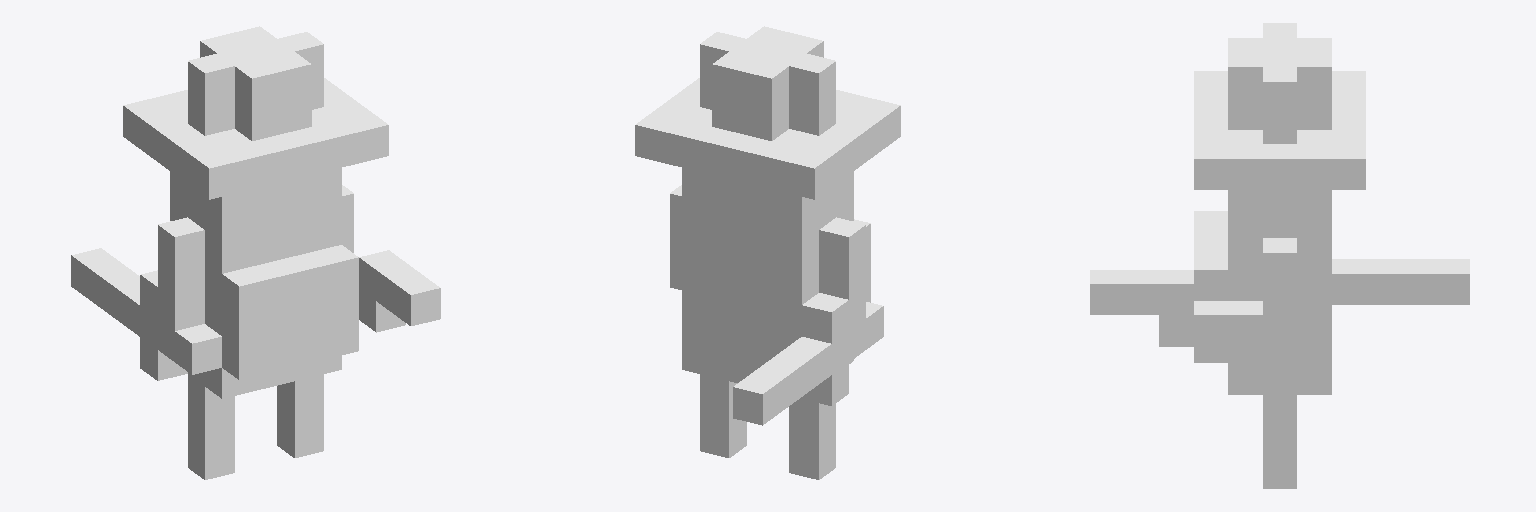
The model's file is idle_1.obj.
3 renders of one model, left to right at view 1: azimuth 30°, elevation 25°; view 2: azimuth 150°, elevation 25°; view 3: azimuth 270°, elevation 25°, orthographic.
Size of the model in its own units: 6 by 13 by 11.